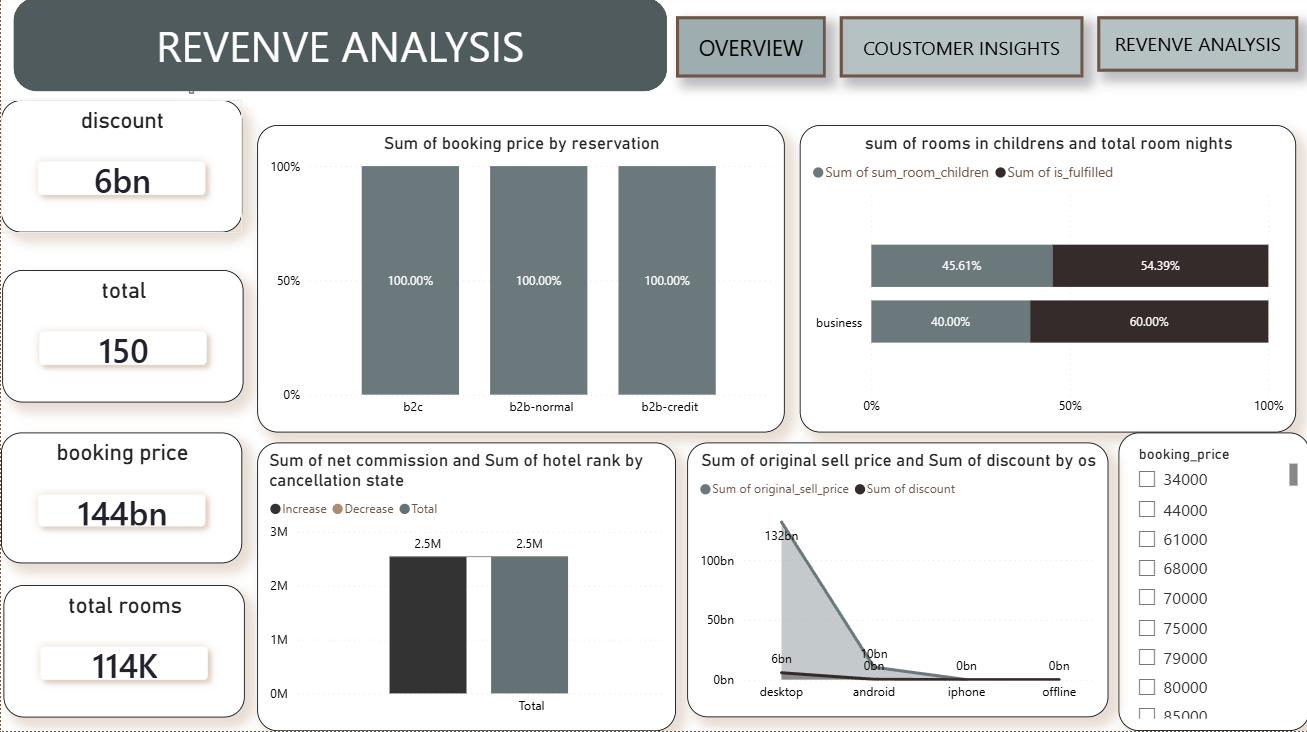

Layout of this report page (visuals, bound fields, positions):
{"tool":"powerbi","page":{"name":"REVENVE ANALYSIS","canvas":[1280,720],"ordinal":2},"visuals":[{"type":"cardVisual","title":"total","fields":{"Data":["Max(hotel_reservations_pricing_revenue.total_room_nights)"]},"box":[1.2,269,236,129.6],"z":0},{"type":"cardVisual","title":"discount","fields":{"Data":["Sum(hotel_reservations_pricing_revenue.discount)"]},"box":[0,102.7,236,129.6],"z":1000},{"type":"cardVisual","title":"total rooms","fields":{"Data":["Sum(hotel_reservations_pricing_revenue.total_room_nights)"]},"box":[2.4,577.2,236,129.6],"z":2000},{"type":"cardVisual","title":"booking price","fields":{"Data":["Sum(hotel_reservations_pricing_revenue.booking_price)"]},"box":[0,428,236,128.4],"z":3000},{"type":"shape","box":[12.2,2.4,639.5,91.7],"z":4000},{"type":"hundredPercentStackedColumnChart","title":"Sum of booking price by reservation","fields":{"Category":["hotel_reservations_pricing_revenue.reservation_type"],"Y":["Sum(hotel_reservations_pricing_revenue.booking_price)"]},"box":[250.7,127.2,516,300.8],"z":5000},{"type":"hundredPercentStackedBarChart","title":"sum of rooms in childrens and total room nights","fields":{"Y":["Sum(hotel_reservations_pricing_revenue.sum_room_children)","Sum(hotel_reservations_pricing_revenue.is_fulfilled)"],"Category":["hotel_reservations_pricing_revenue.travel_type"]},"box":[781.4,127.2,485.5,300.8],"z":6000},{"type":"waterfallChart","title":"Sum of net commission  and Sum of hotel rank by cancellation state","fields":{"Category":["hotel_reservations_pricing_revenue.cancellation_state"],"Y":["Sum(hotel_reservations_pricing_revenue.net_commission_revenue_eur)"]},"box":[250.7,437.8,409.6,282.5],"z":7000},{"type":"slicer","fields":{"Values":["hotel_reservations_pricing_revenue.booking_price"]},"box":[1093.2,428,187.1,292.3],"z":8000},{"type":"areaChart","title":"Sum of original sell price and Sum of discount by os","fields":{"Category":["hotel_reservations_pricing_revenue.os"],"Y":["Sum(hotel_reservations_pricing_revenue.original_sell_price)","Sum(hotel_reservations_pricing_revenue.discount)"]},"box":[671.3,437.8,412.1,269],"z":9000},{"type":"actionButton","box":[820.5,20.8,238.5,59.9],"z":10000},{"type":"actionButton","box":[660.3,20.8,146.7,59.9],"z":11000},{"type":"actionButton","box":[1072.5,20.5,196.6,54.3],"z":12000}]}

Visuals, with their boxes in screenshot pixels (x1, y1, x2, y2), scaled from the page's 1280x720 canvas onto the 1307x732 screenshot:
"total" cardVisual: [x1=1, y1=273, x2=242, y2=405]
"discount" cardVisual: [x1=0, y1=104, x2=241, y2=236]
"total rooms" cardVisual: [x1=2, y1=587, x2=243, y2=719]
"booking price" cardVisual: [x1=0, y1=435, x2=241, y2=566]
shape: [x1=12, y1=2, x2=665, y2=96]
"Sum of booking price by reservation" hundredPercentStackedColumnChart: [x1=256, y1=129, x2=783, y2=435]
"sum of rooms in childrens and total room nights" hundredPercentStackedBarChart: [x1=798, y1=129, x2=1294, y2=435]
"Sum of net commission  and Sum of hotel rank by cancellation state" waterfallChart: [x1=256, y1=445, x2=674, y2=731]
slicer - hotel_reservations_pricing_revenue.booking_price: [x1=1116, y1=435, x2=1306, y2=731]
"Sum of original sell price and Sum of discount by os" areaChart: [x1=685, y1=445, x2=1106, y2=719]
actionButton: [x1=838, y1=21, x2=1081, y2=82]
actionButton: [x1=674, y1=21, x2=824, y2=82]
actionButton: [x1=1095, y1=21, x2=1296, y2=76]
